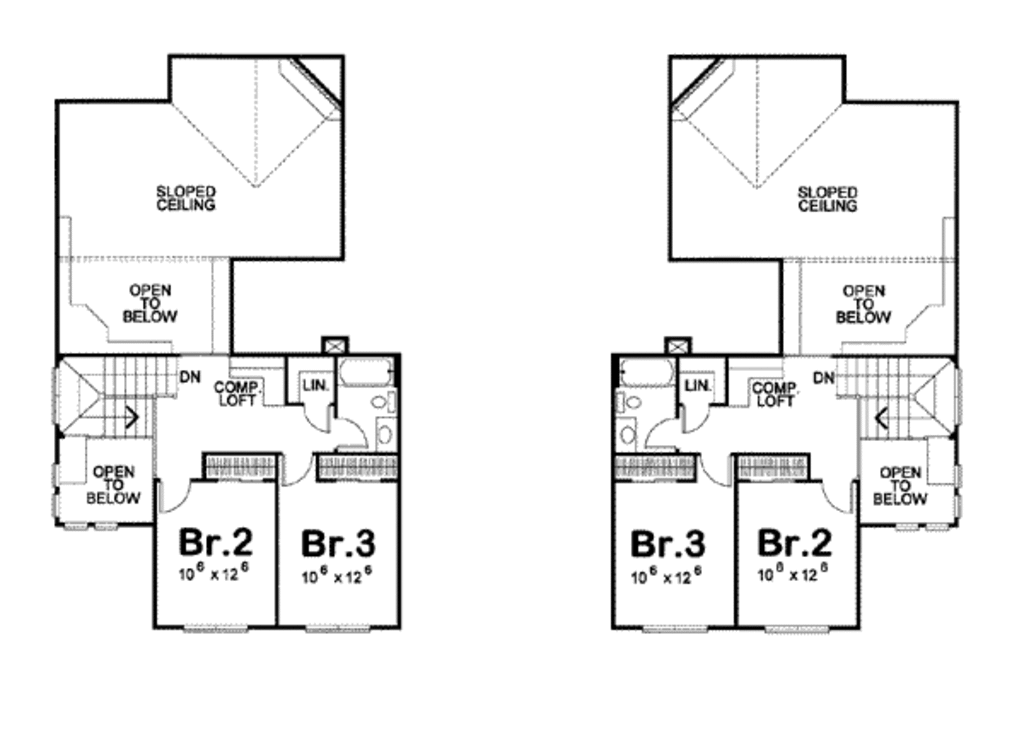door: (693, 450, 737, 490), (645, 411, 687, 452), (151, 472, 193, 511), (297, 397, 337, 437), (331, 417, 369, 453), (818, 479, 856, 513), (282, 454, 314, 487), (684, 399, 713, 433)
large_sink: (364, 386, 406, 416), (609, 389, 646, 416)
small_sink: (370, 416, 402, 455), (617, 417, 640, 453)
stairs: (824, 354, 966, 440), (50, 352, 181, 441)
tub: (334, 358, 402, 385), (618, 358, 677, 387)
window: (43, 459, 68, 522), (51, 511, 123, 532), (945, 462, 970, 522), (173, 619, 254, 636), (301, 620, 373, 636), (641, 623, 709, 637), (763, 622, 836, 633), (901, 519, 951, 532)
